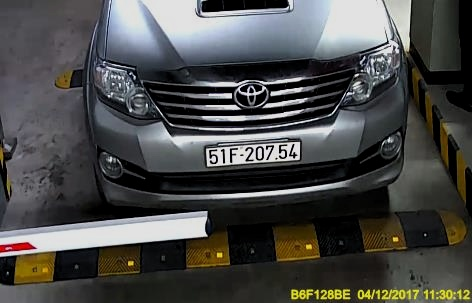plate: (207, 140, 301, 162)
